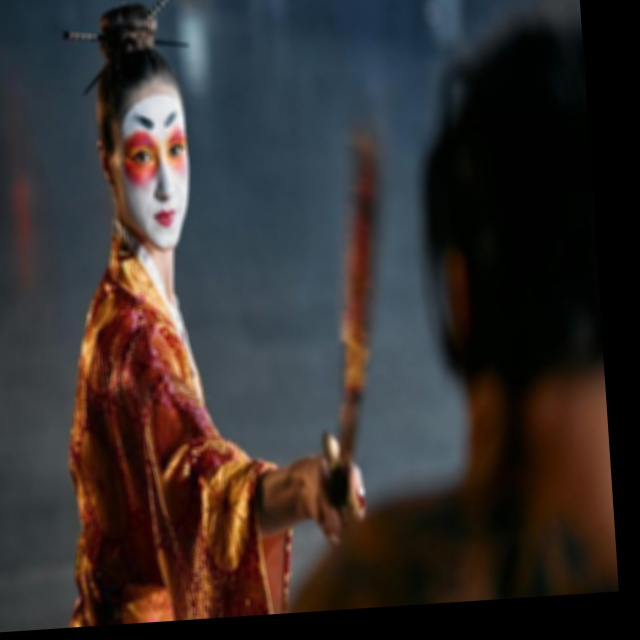Sharp-Object: (284, 125, 412, 538)
